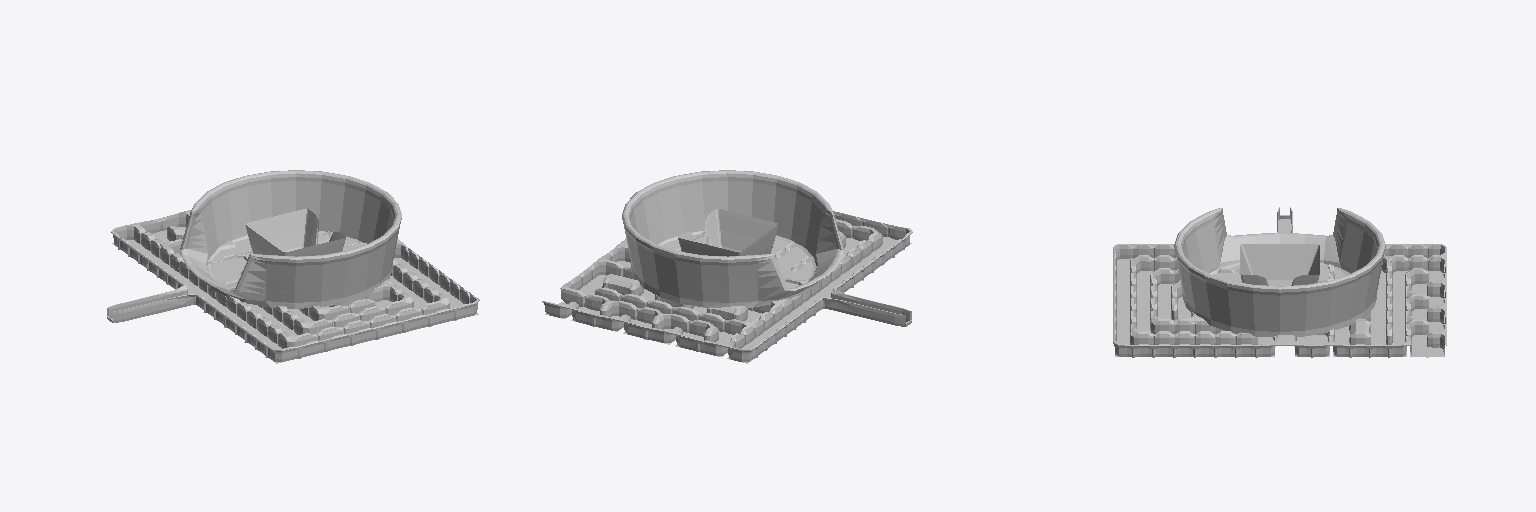
The model's file is RoomsFinal.obj.
3 renders of one model, left to right at view 1: azimuth 30°, elevation 25°; view 2: azimuth 150°, elevation 25°; view 3: azimuth 270°, elevation 25°, orthographic.
Visible parts, largest first — view 1: BossFightStructure, BossWalls, Box001, BossFloor, BossFightWindow; view 2: BossFightStructure, BossWalls, Box001, BossFloor, BossFightWindow; view 3: BossFightStructure, BossWalls, BossFloor, Box001.
Boxes of the visible parts, x1,y1,x2,y2 form: BossFightStructure: [180, 170, 401, 308]; BossWalls: [107, 210, 479, 361]; Box001: [245, 209, 345, 256]; BossFloor: [112, 227, 478, 363]; BossFightWindow: [215, 237, 352, 282]; BossFightStructure: [622, 170, 843, 307]; BossWalls: [542, 211, 912, 361]; Box001: [678, 209, 778, 256]; BossFloor: [545, 237, 911, 363]; BossFightWindow: [658, 236, 808, 287]; BossFightStructure: [1174, 208, 1385, 337]; BossWalls: [1113, 207, 1446, 357]; BossFloor: [1113, 219, 1444, 357]; Box001: [1240, 244, 1319, 285].
Size of the model in its own units: 64809 by 13934 by 65268.